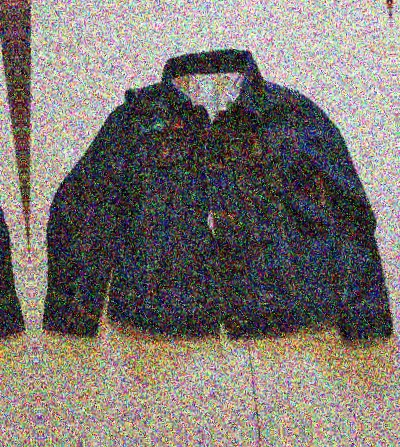Blazer: (31, 18, 400, 391), (0, 42, 22, 415)
